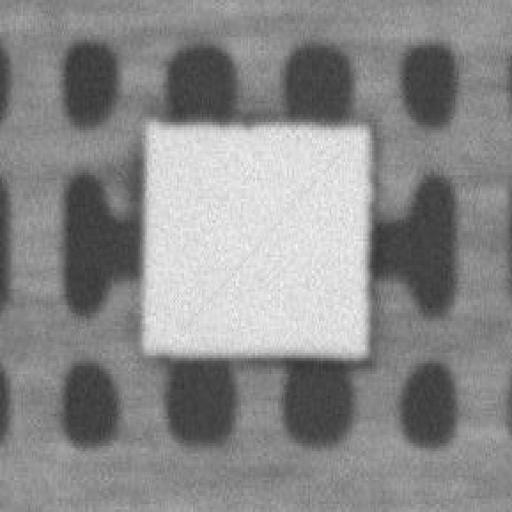DIE_CRACK: (273, 99, 507, 216)
